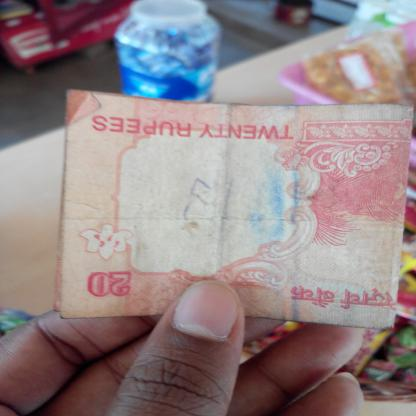Old20Back: (59, 109, 406, 319)
